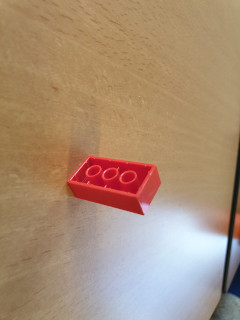2x4 red: (67, 154, 163, 216)
